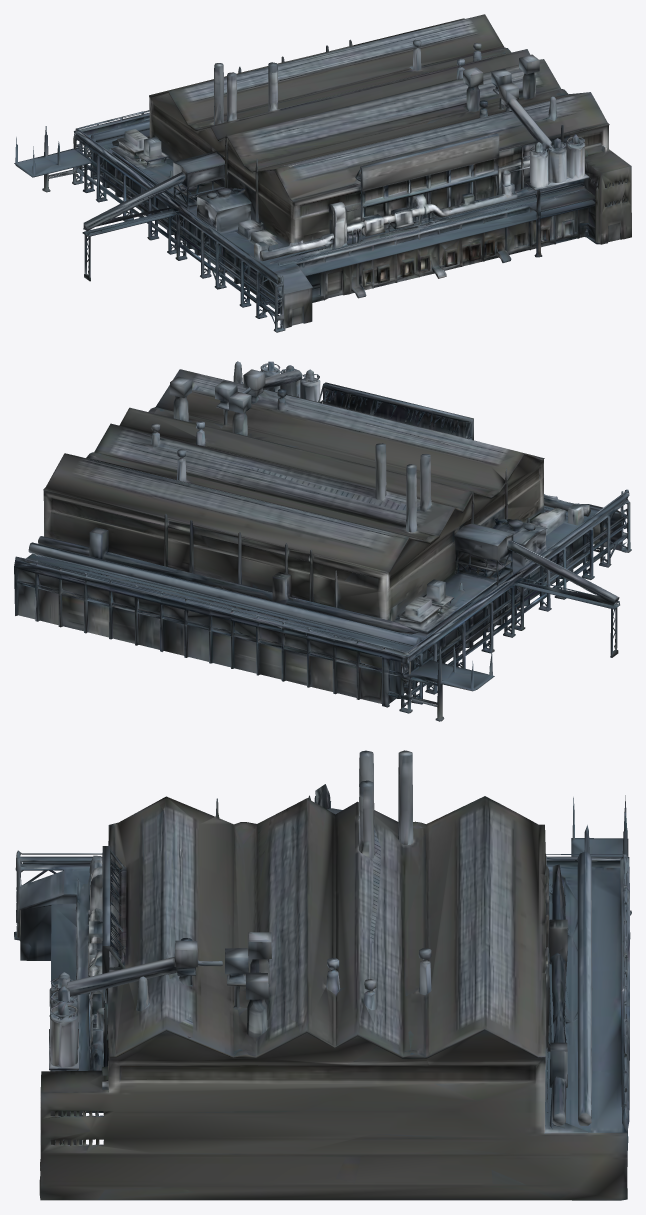
The model's file is industrial.glb.
3 renders of one model, top to bottom at view 1: azimuth 30°, elevation 25°; view 2: azimuth 150°, elevation 25°; view 3: azimuth 270°, elevation 25°, orthographic. The views are drawn at different scales.
Visible parts, largest first — view 1: node_0; view 2: node_0; view 3: node_0.
Boxes of the visible parts, x1,y1,x2,y2 form: node_0: (14, 14, 631, 332); node_0: (14, 361, 631, 721); node_0: (14, 750, 631, 1200).
Bounding box in the file's own units: 0.9256 × 0.3022 × 0.7241.
Materials: 1 (1 with a texture image).
